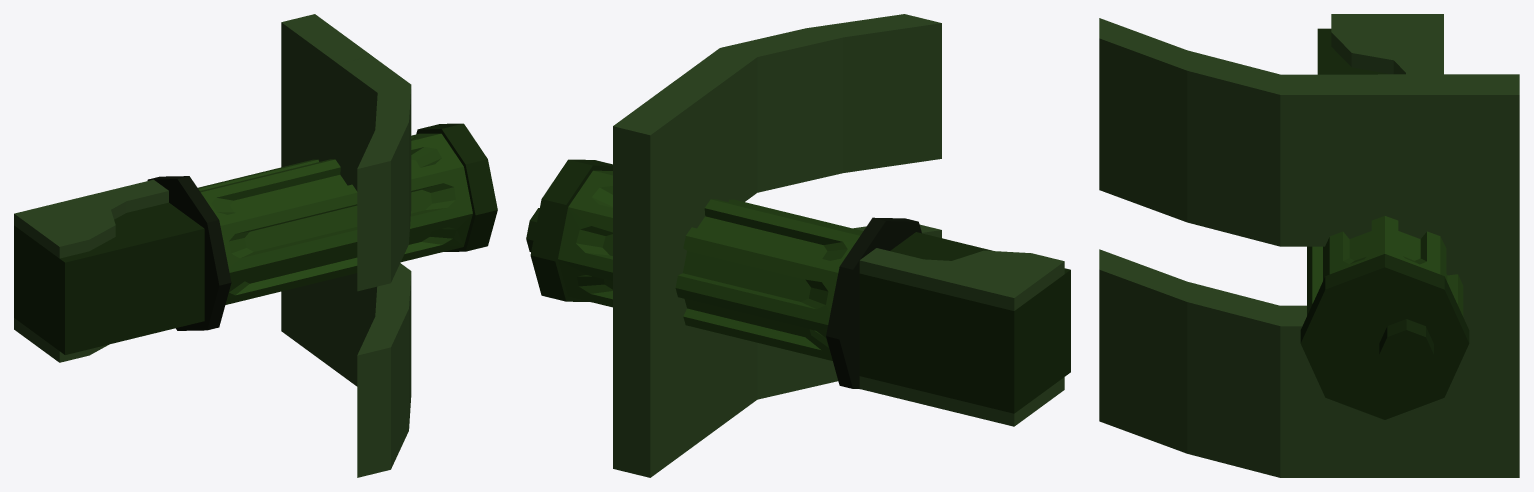
Rendered from turret3_head.obj.
3 views of the same model, side by side, from view 1: azimuth 30°, elevation 25°; view 2: azimuth 150°, elevation 25°; view 3: azimuth 270°, elevation 25° (orthographic). The views are drawn at different scales.
Visible parts, largest first — view 1: Cube.004; view 2: Cube.004; view 3: Cube.004.
Boxes of the visible parts, x1=… form: Cube.004: x1=14, y1=14, x2=497, y2=477; Cube.004: x1=526, y1=14, x2=1070, y2=477; Cube.004: x1=1099, y1=14, x2=1519, y2=477.
Bounding box in the file's own units: 1.73 × 1.15 × 1.14.
